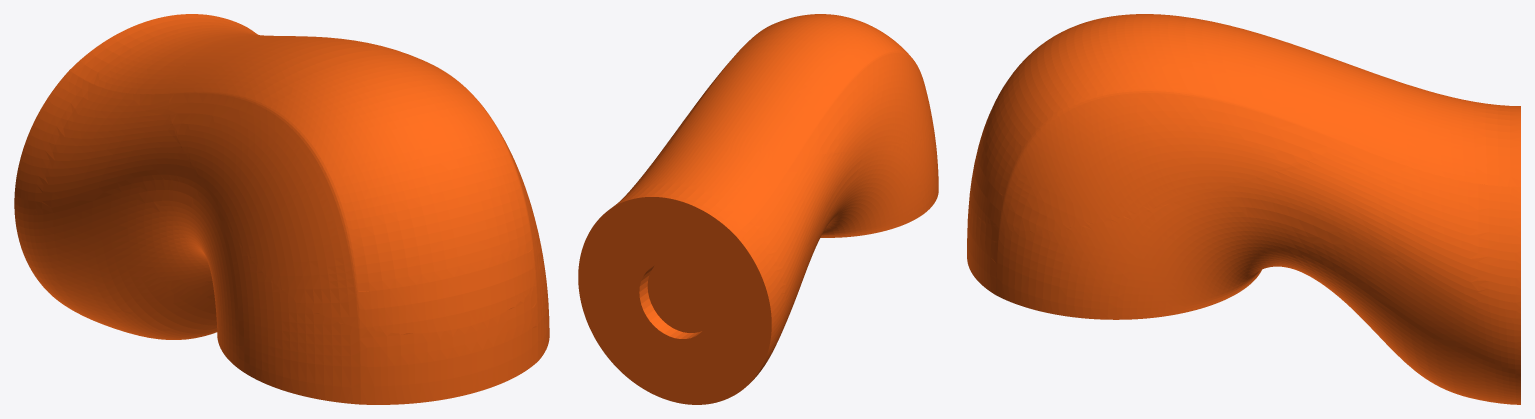
The model's file is iiwa_link_4.dae.
The picture shows the model from 3 angles, left to right: view 1: azimuth 30°, elevation 25°; view 2: azimuth 150°, elevation 25°; view 3: azimuth 270°, elevation 25°; orthographic projection. The views are drawn at different scales.
Parts seen in each view (by area): view 1: Iiwa Link 4; view 2: Iiwa Link 4; view 3: Iiwa Link 4.
Boxes of the visible parts, bbox=[...] form: Iiwa Link 4: bbox=[14, 14, 549, 404]; Iiwa Link 4: bbox=[578, 14, 938, 404]; Iiwa Link 4: bbox=[967, 14, 1520, 404].
Size of the model in its own units: 0.136 by 0.2525 by 0.1826.
